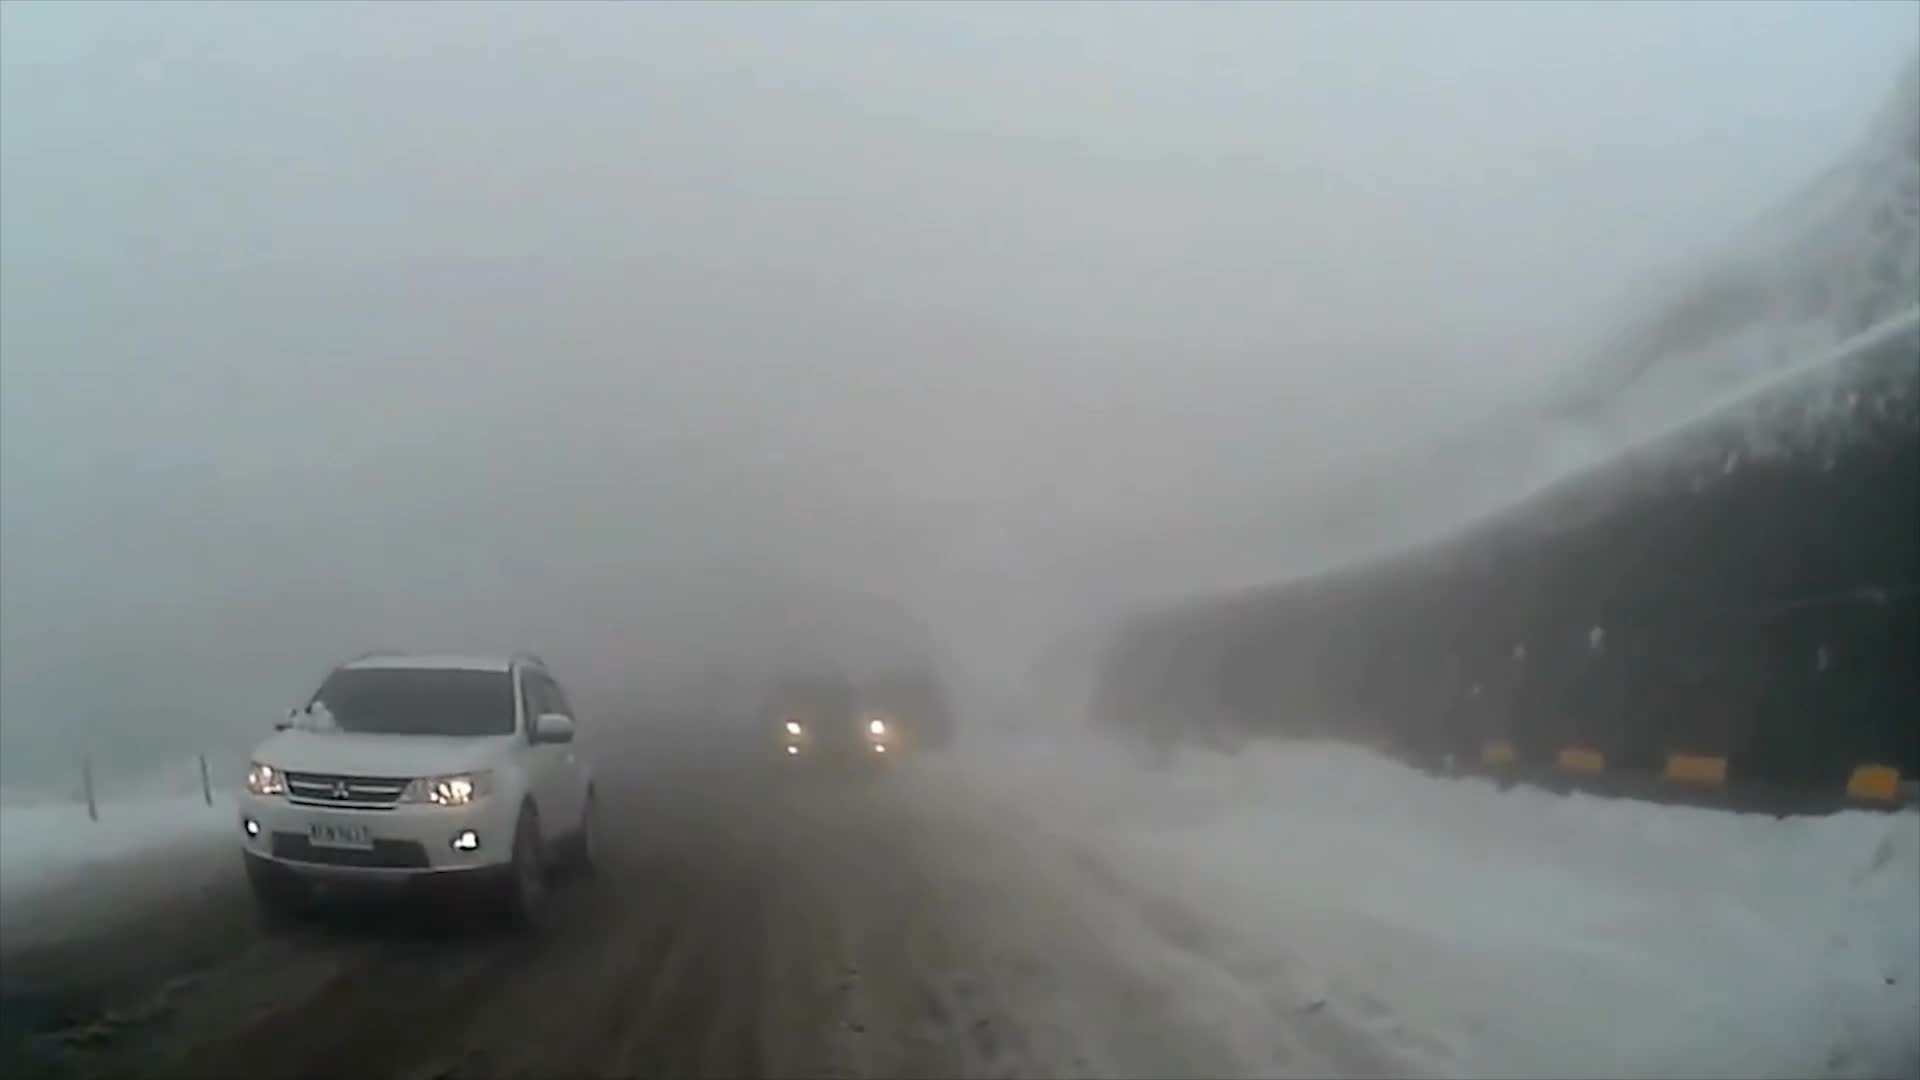vehicle: (232, 646, 604, 932), (752, 676, 894, 785)
